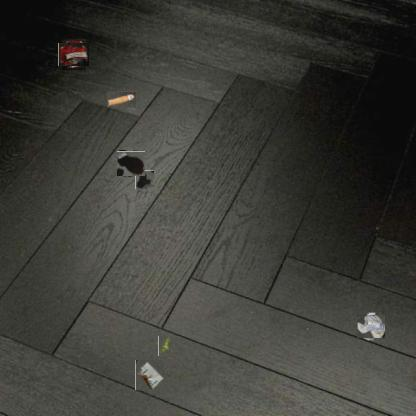dirty: (135, 361, 164, 390), (60, 41, 88, 68), (358, 314, 384, 340), (106, 91, 136, 107), (157, 338, 173, 355)
liquid: (118, 151, 145, 177), (135, 170, 154, 189)
